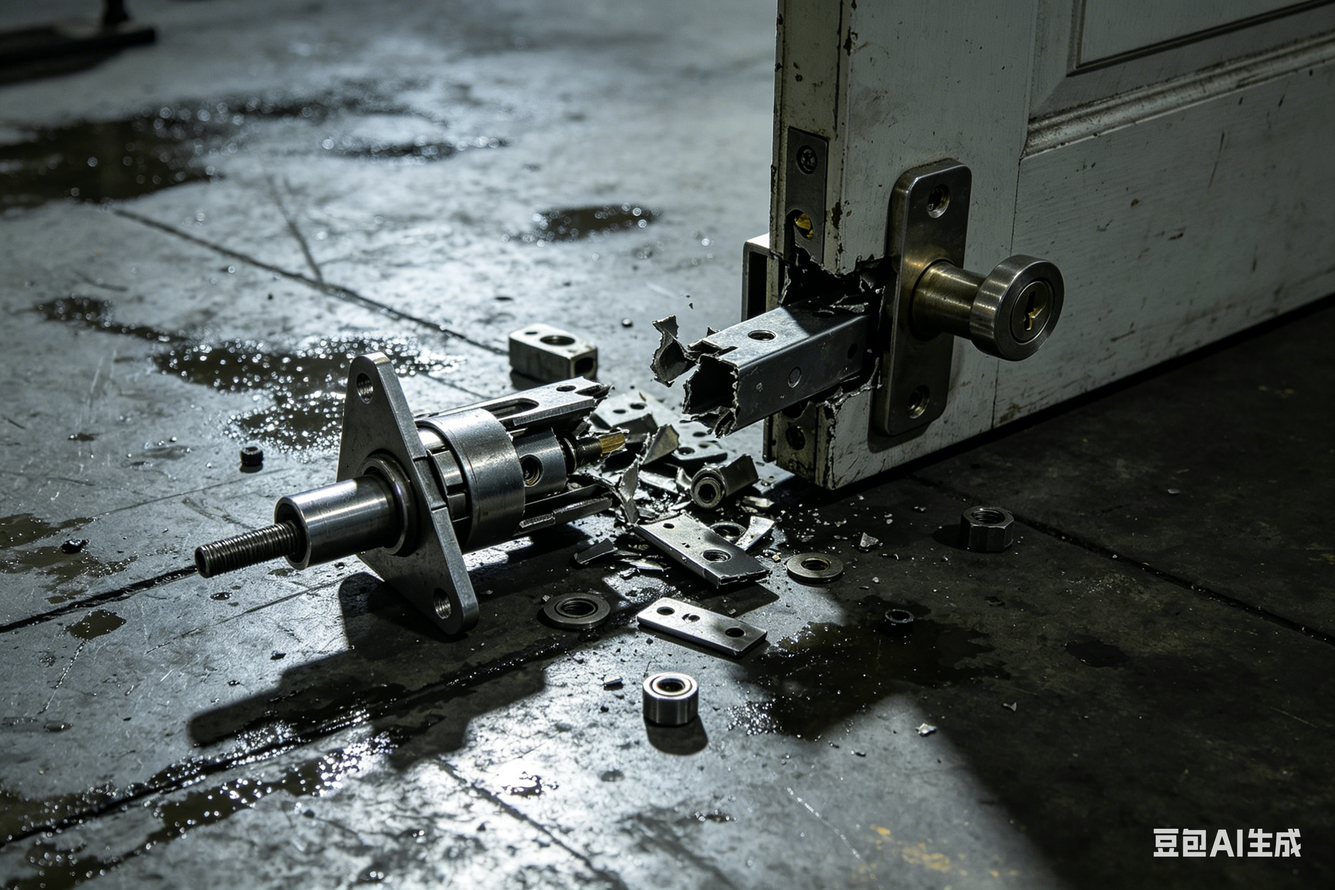BadLock: (540, 325, 787, 506), (784, 234, 916, 412)
